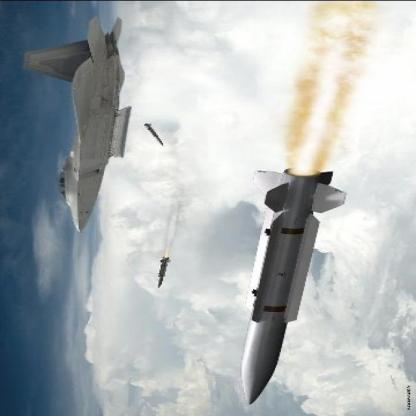MIL_TBM: (238, 169, 346, 404), (156, 256, 172, 288), (143, 121, 163, 145)
